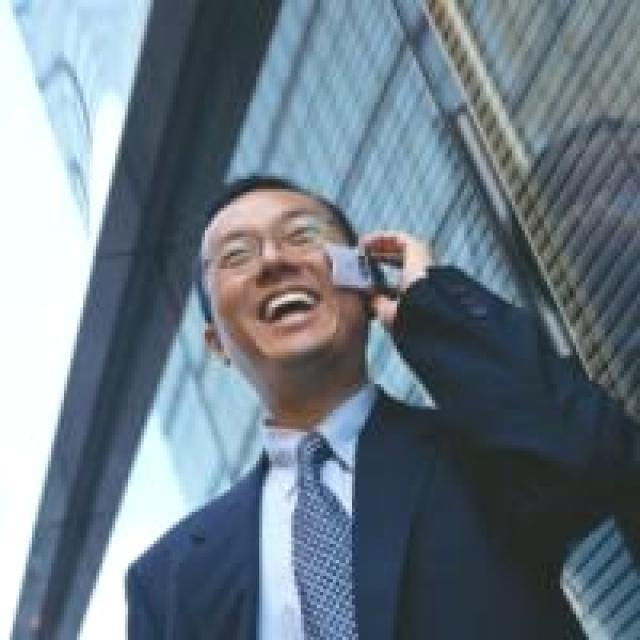no_vest: (129, 383, 596, 640)
